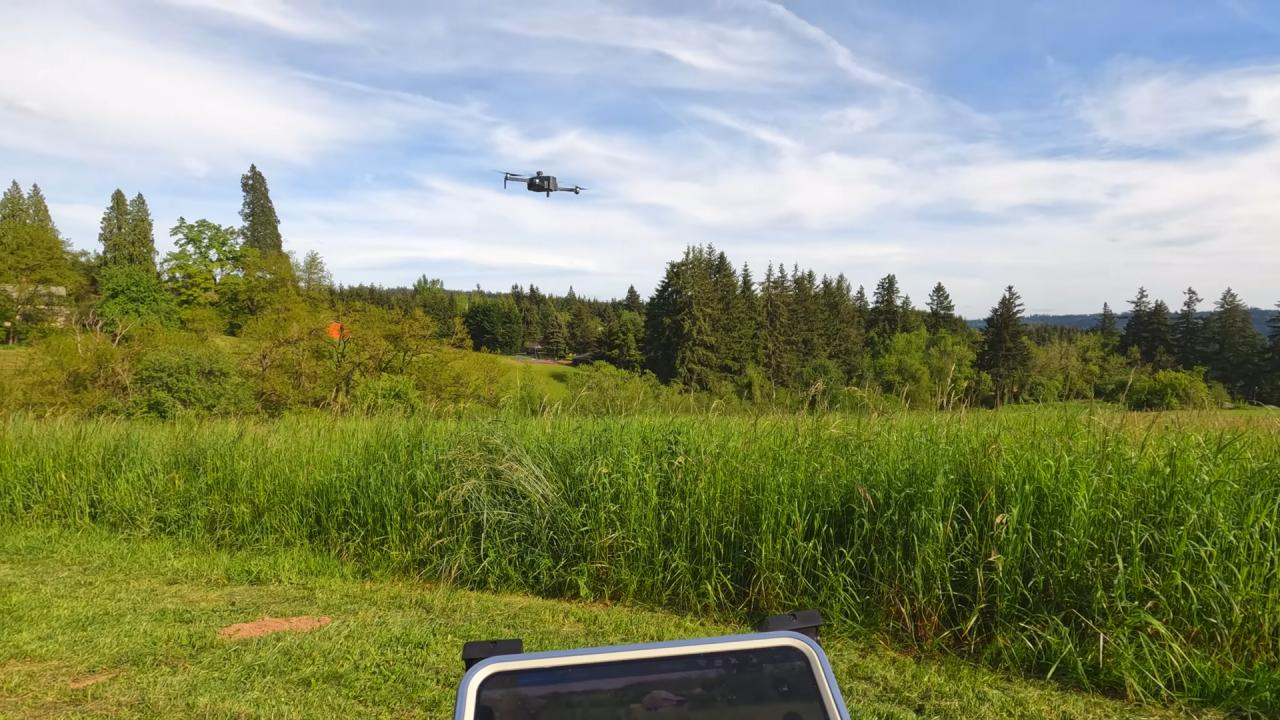Drone: (489, 162, 592, 210)
